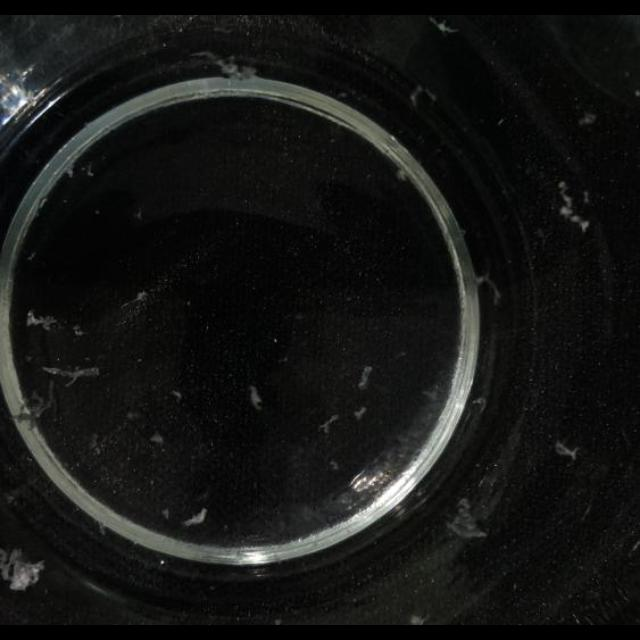Fibre: (0, 546, 46, 592), (317, 403, 368, 437), (557, 182, 591, 230), (448, 500, 488, 540), (207, 55, 256, 81), (410, 85, 438, 112), (25, 309, 59, 331), (429, 17, 458, 35), (555, 442, 581, 462), (356, 366, 374, 390), (184, 508, 208, 526), (318, 414, 338, 434), (248, 384, 262, 410), (578, 112, 598, 126), (409, 613, 428, 625), (149, 432, 165, 446), (396, 168, 410, 182), (353, 406, 367, 420), (72, 325, 88, 337), (472, 396, 486, 409), (133, 292, 147, 304), (170, 390, 182, 402), (85, 163, 95, 177)
